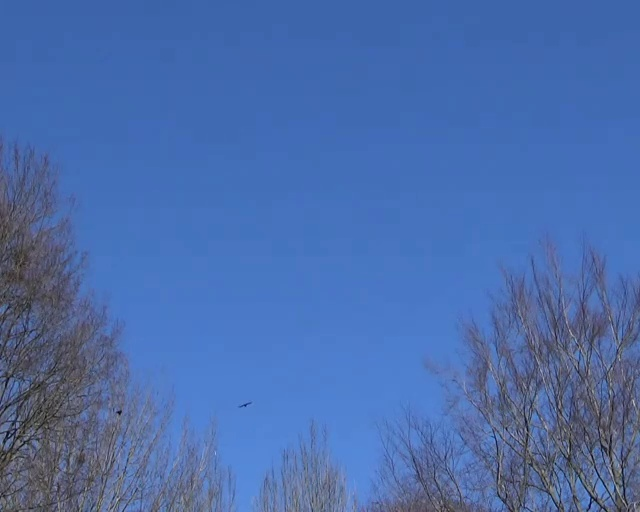BIRD: (238, 401, 252, 408)
